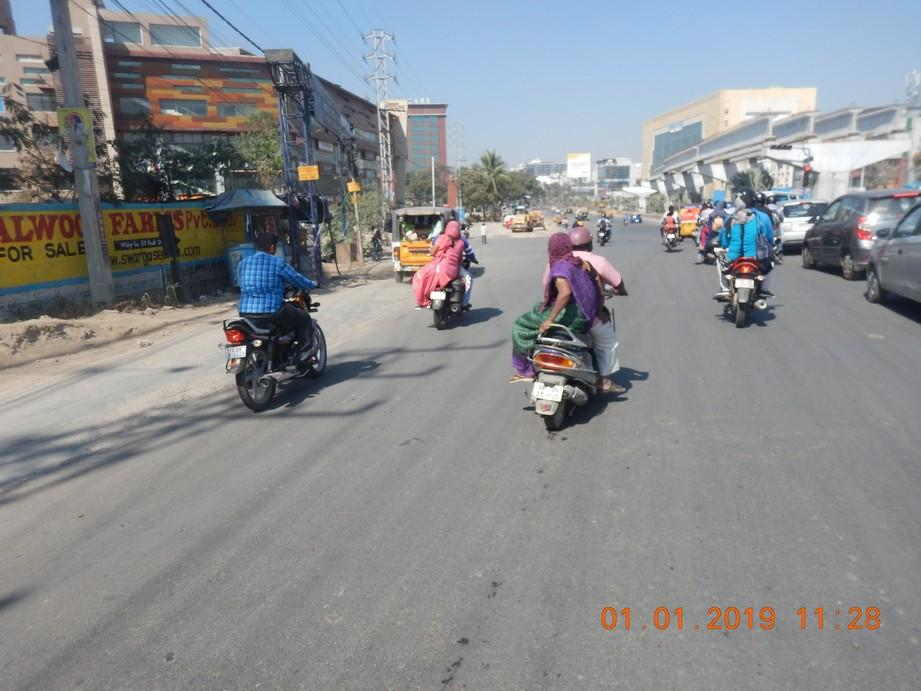plate: (533, 382, 563, 404), (224, 345, 247, 359)
